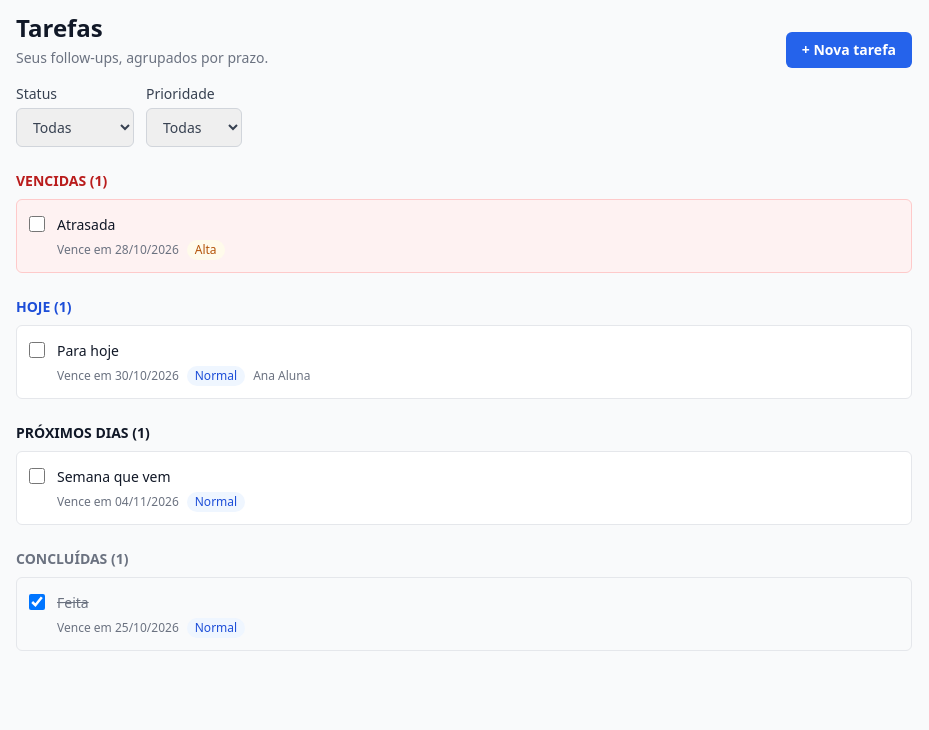
Test: tarefas › se a API recusar, o checkbox volta e aparece o erro
Expected: the button "Para hoje" is shown, [57,341,119,361]
Click the checkbox named "Concluir Para hoje" at (37, 350), box [29,342,45,358]
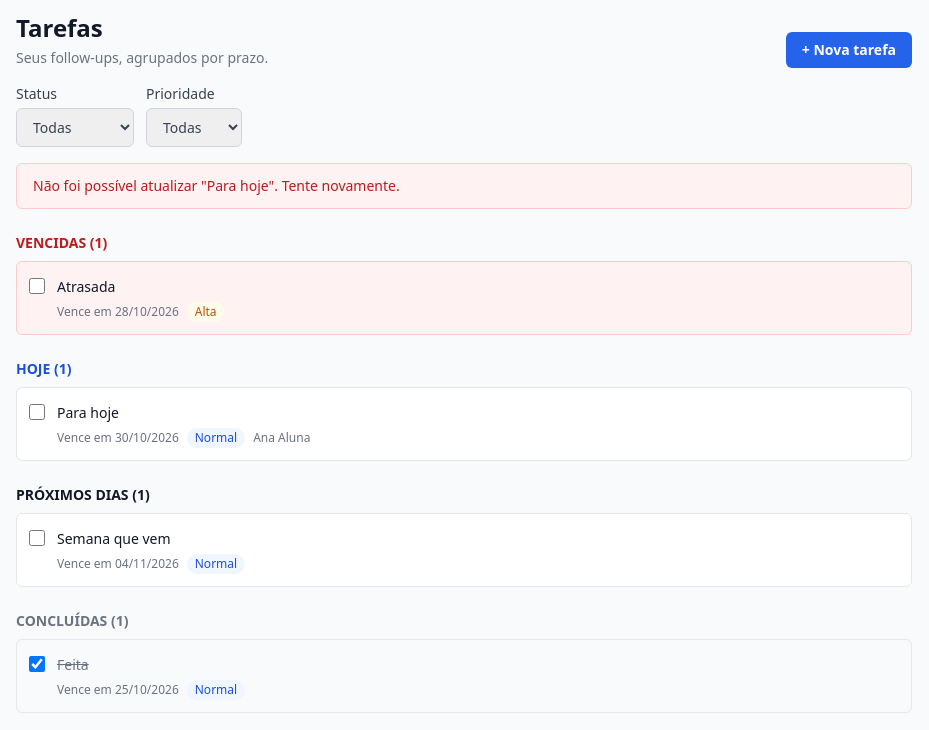
Expected: the checkbox named "Concluir Para hoje" is not checked, [29,404,45,420]
Expected: the text "Não foi possível atualizar \"Para hoje\". Tente novamente." is shown, [16,163,912,209]
